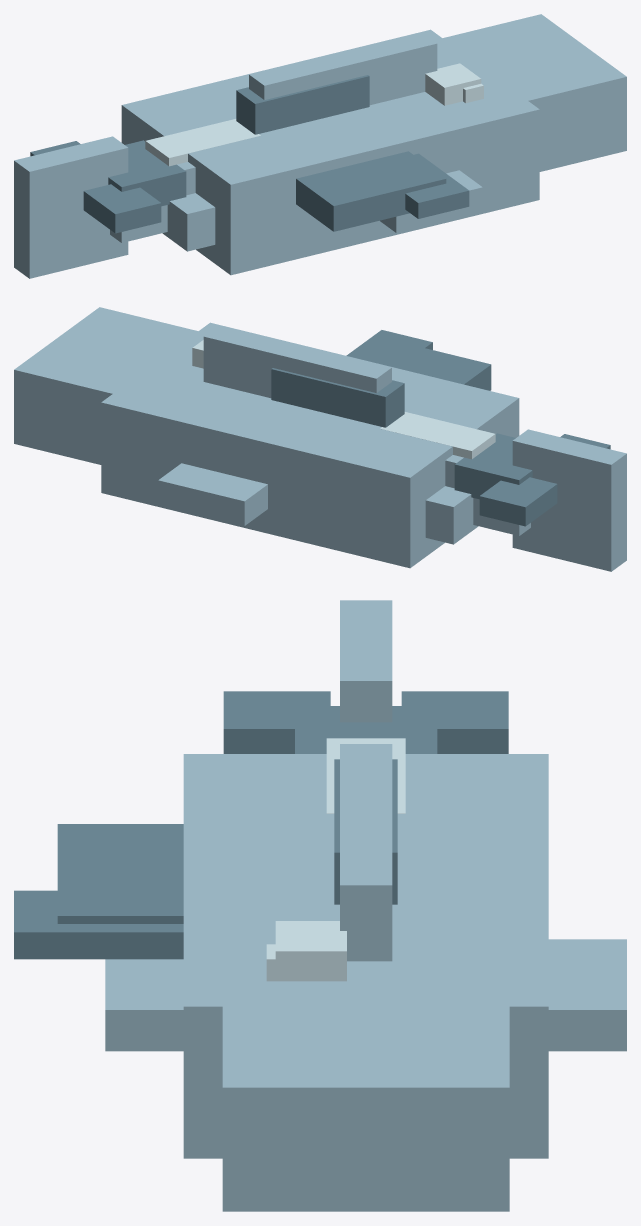
The model's file is fish_foam_skater.glb.
The picture shows the model from 3 angles, top to bottom: view 1: azimuth 30°, elevation 25°; view 2: azimuth 150°, elevation 25°; view 3: azimuth 270°, elevation 25°; orthographic projection. The views are drawn at different scales.
Parts seen in each view (by area): view 1: FishArt_body, FishArt_pectoral, FishArt_tail, FishArt_dorsal, FishArt_specialty, FishArt_eye; view 2: FishArt_body, FishArt_tail, FishArt_dorsal, FishArt_pectoral, FishArt_specialty; view 3: FishArt_body, FishArt_pectoral, FishArt_tail, FishArt_eye, FishArt_specialty, FishArt_dorsal.
Part boxes in pixels (x1,y1,x2,y2): FishArt_body: (14, 14, 626, 278); FishArt_pectoral: (296, 151, 469, 231); FishArt_tail: (30, 140, 186, 233); FishArt_dorsal: (236, 75, 369, 134); FishArt_specialty: (145, 119, 260, 166); FishArt_eye: (425, 63, 483, 105); FishArt_body: (14, 307, 626, 571); FishArt_tail: (454, 433, 610, 526); FishArt_dorsal: (271, 368, 404, 427); FishArt_pectoral: (346, 330, 491, 390); FishArt_specialty: (380, 412, 495, 459); FishArt_body: (105, 600, 626, 1211); FishArt_pectoral: (14, 824, 183, 959); FishArt_tail: (223, 691, 508, 753); FishArt_eye: (266, 921, 346, 981); FishArt_specialty: (326, 738, 405, 813); FishArt_dorsal: (334, 759, 397, 904).
Bounding box in the file's own units: 0.33 × 0.0762 × 0.1859.
